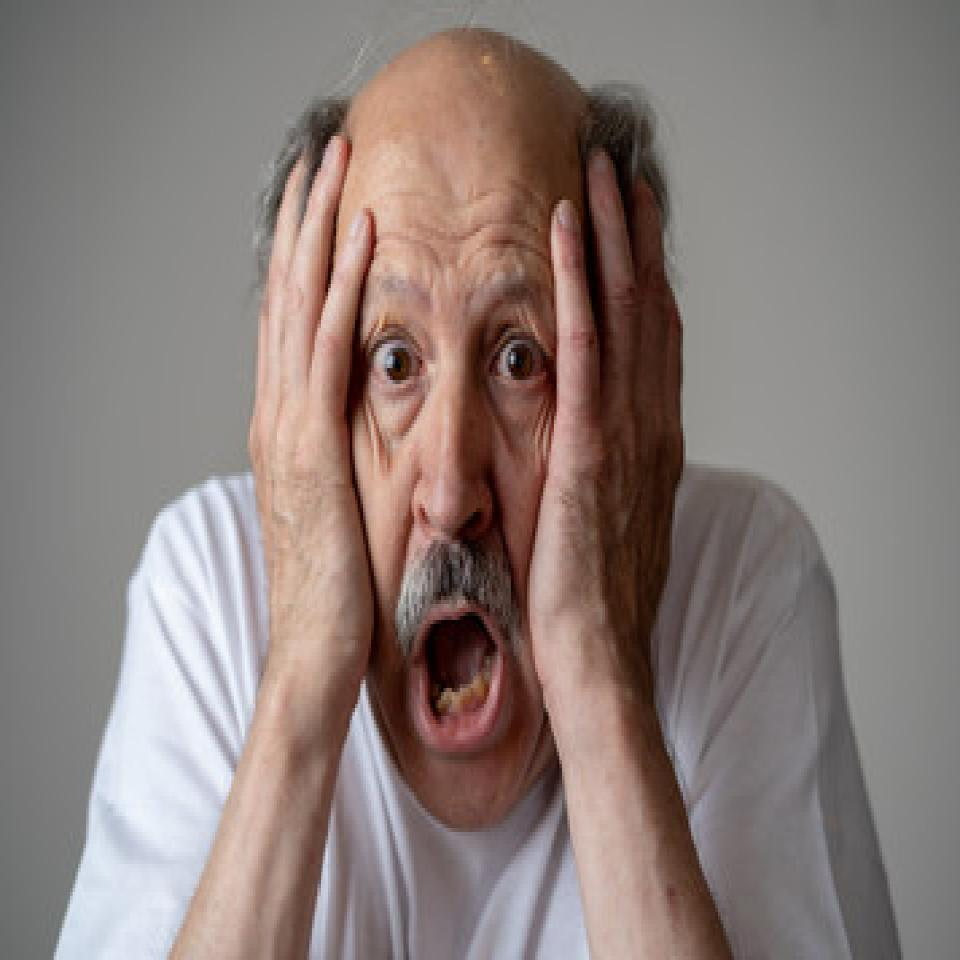Scared: (249, 48, 687, 820)
